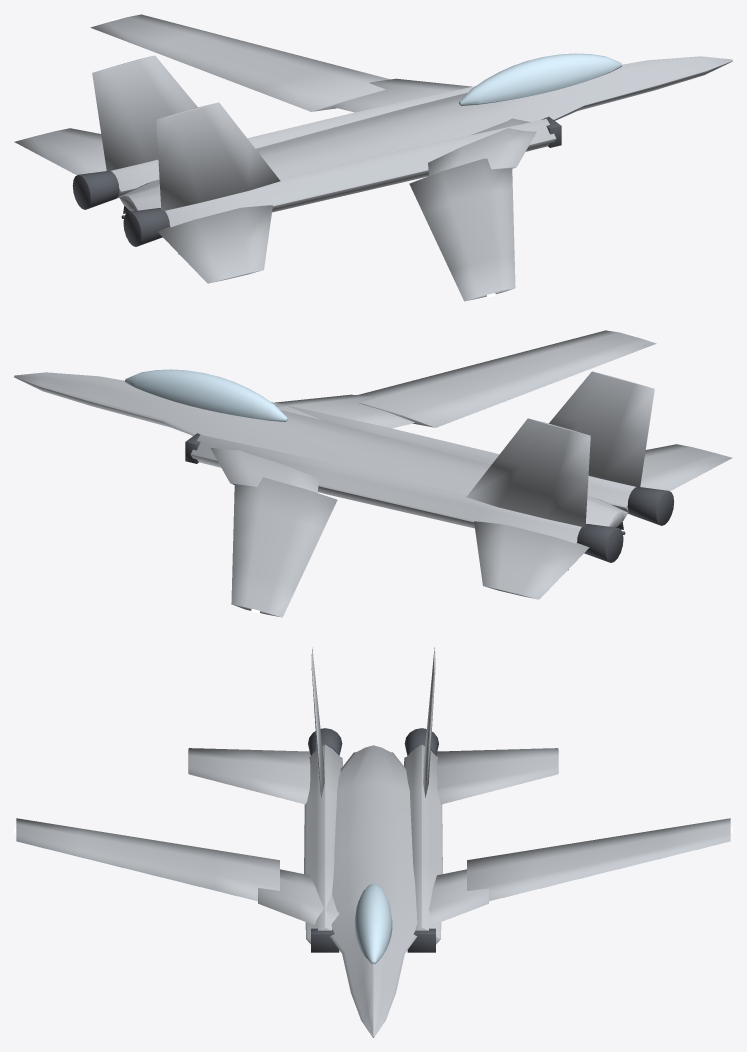
The model's file is SM_F14_Tomcat.fbx.
The picture shows the model from 3 angles, top to bottom: view 1: azimuth 30°, elevation 25°; view 2: azimuth 150°, elevation 25°; view 3: azimuth 270°, elevation 25°; orthographic projection. The views are drawn at different scales.
Parts seen in each view (by area): view 1: SM_F14_Tomcat; view 2: SM_F14_Tomcat; view 3: SM_F14_Tomcat.
Part boxes in pixels (x1=…): SM_F14_Tomcat: x1=14, y1=14, x2=732, y2=301; SM_F14_Tomcat: x1=14, y1=330, x2=732, y2=617; SM_F14_Tomcat: x1=14, y1=647, x2=732, y2=1037.
Bounding box in the file's own units: 18.81 × 19.62 × 4.25.
